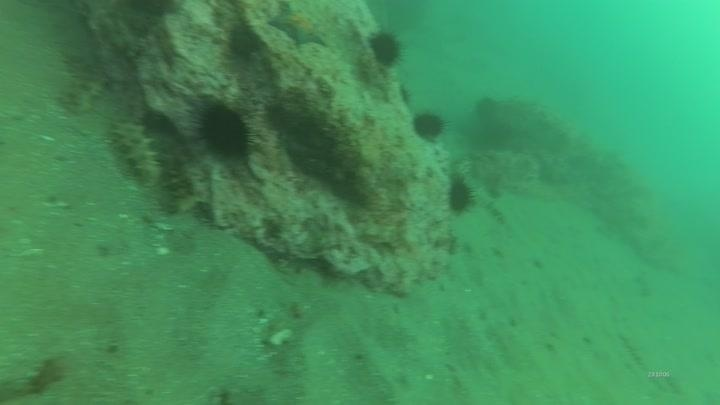echinus: (190, 97, 257, 163), (366, 28, 405, 69), (444, 173, 477, 217), (409, 108, 447, 144), (471, 94, 501, 124)
holothurian: (107, 114, 164, 185), (54, 46, 110, 115), (158, 143, 204, 217), (472, 190, 510, 226)
starfish: (265, 5, 330, 50)
